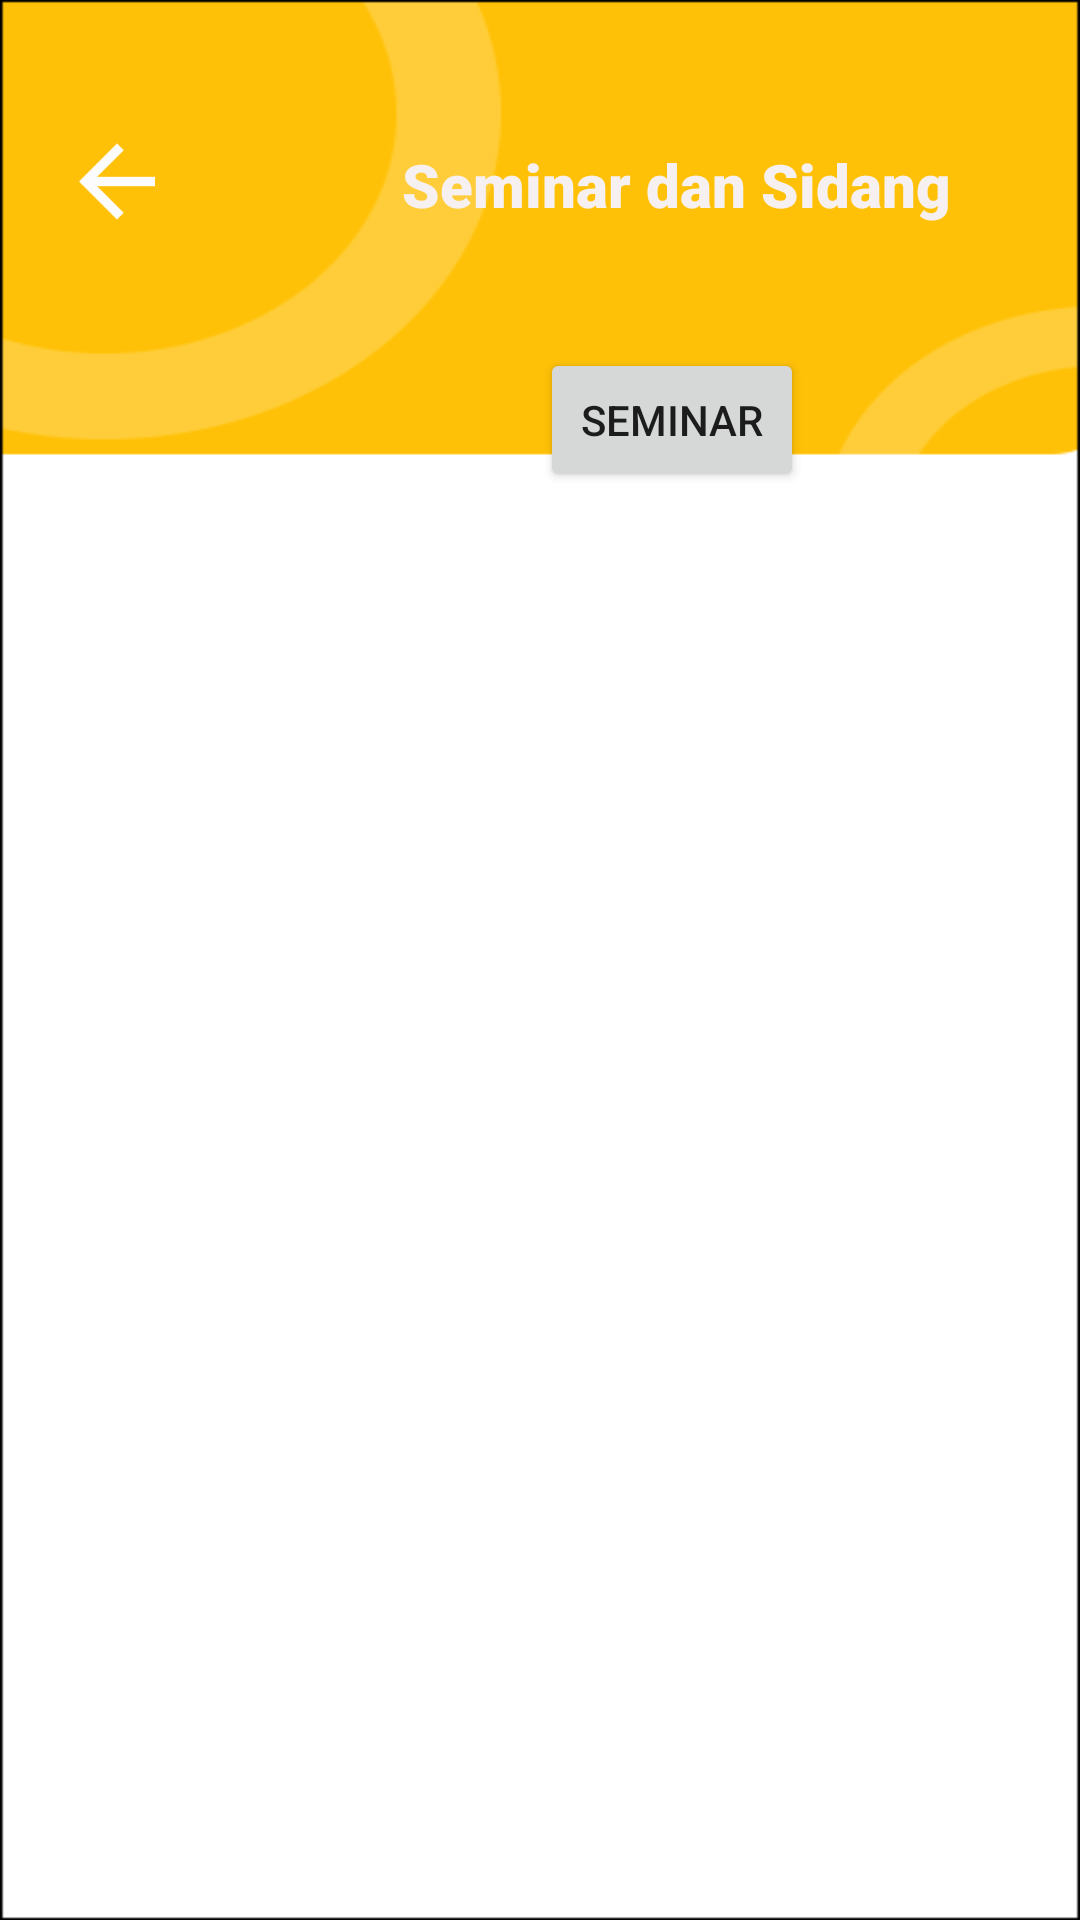

Icon click points for this 1080 x 1920 phone screenshot, format point (x, y):
arrow left: point (117, 181)
